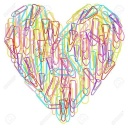Metal: (3, 0, 128, 128)
